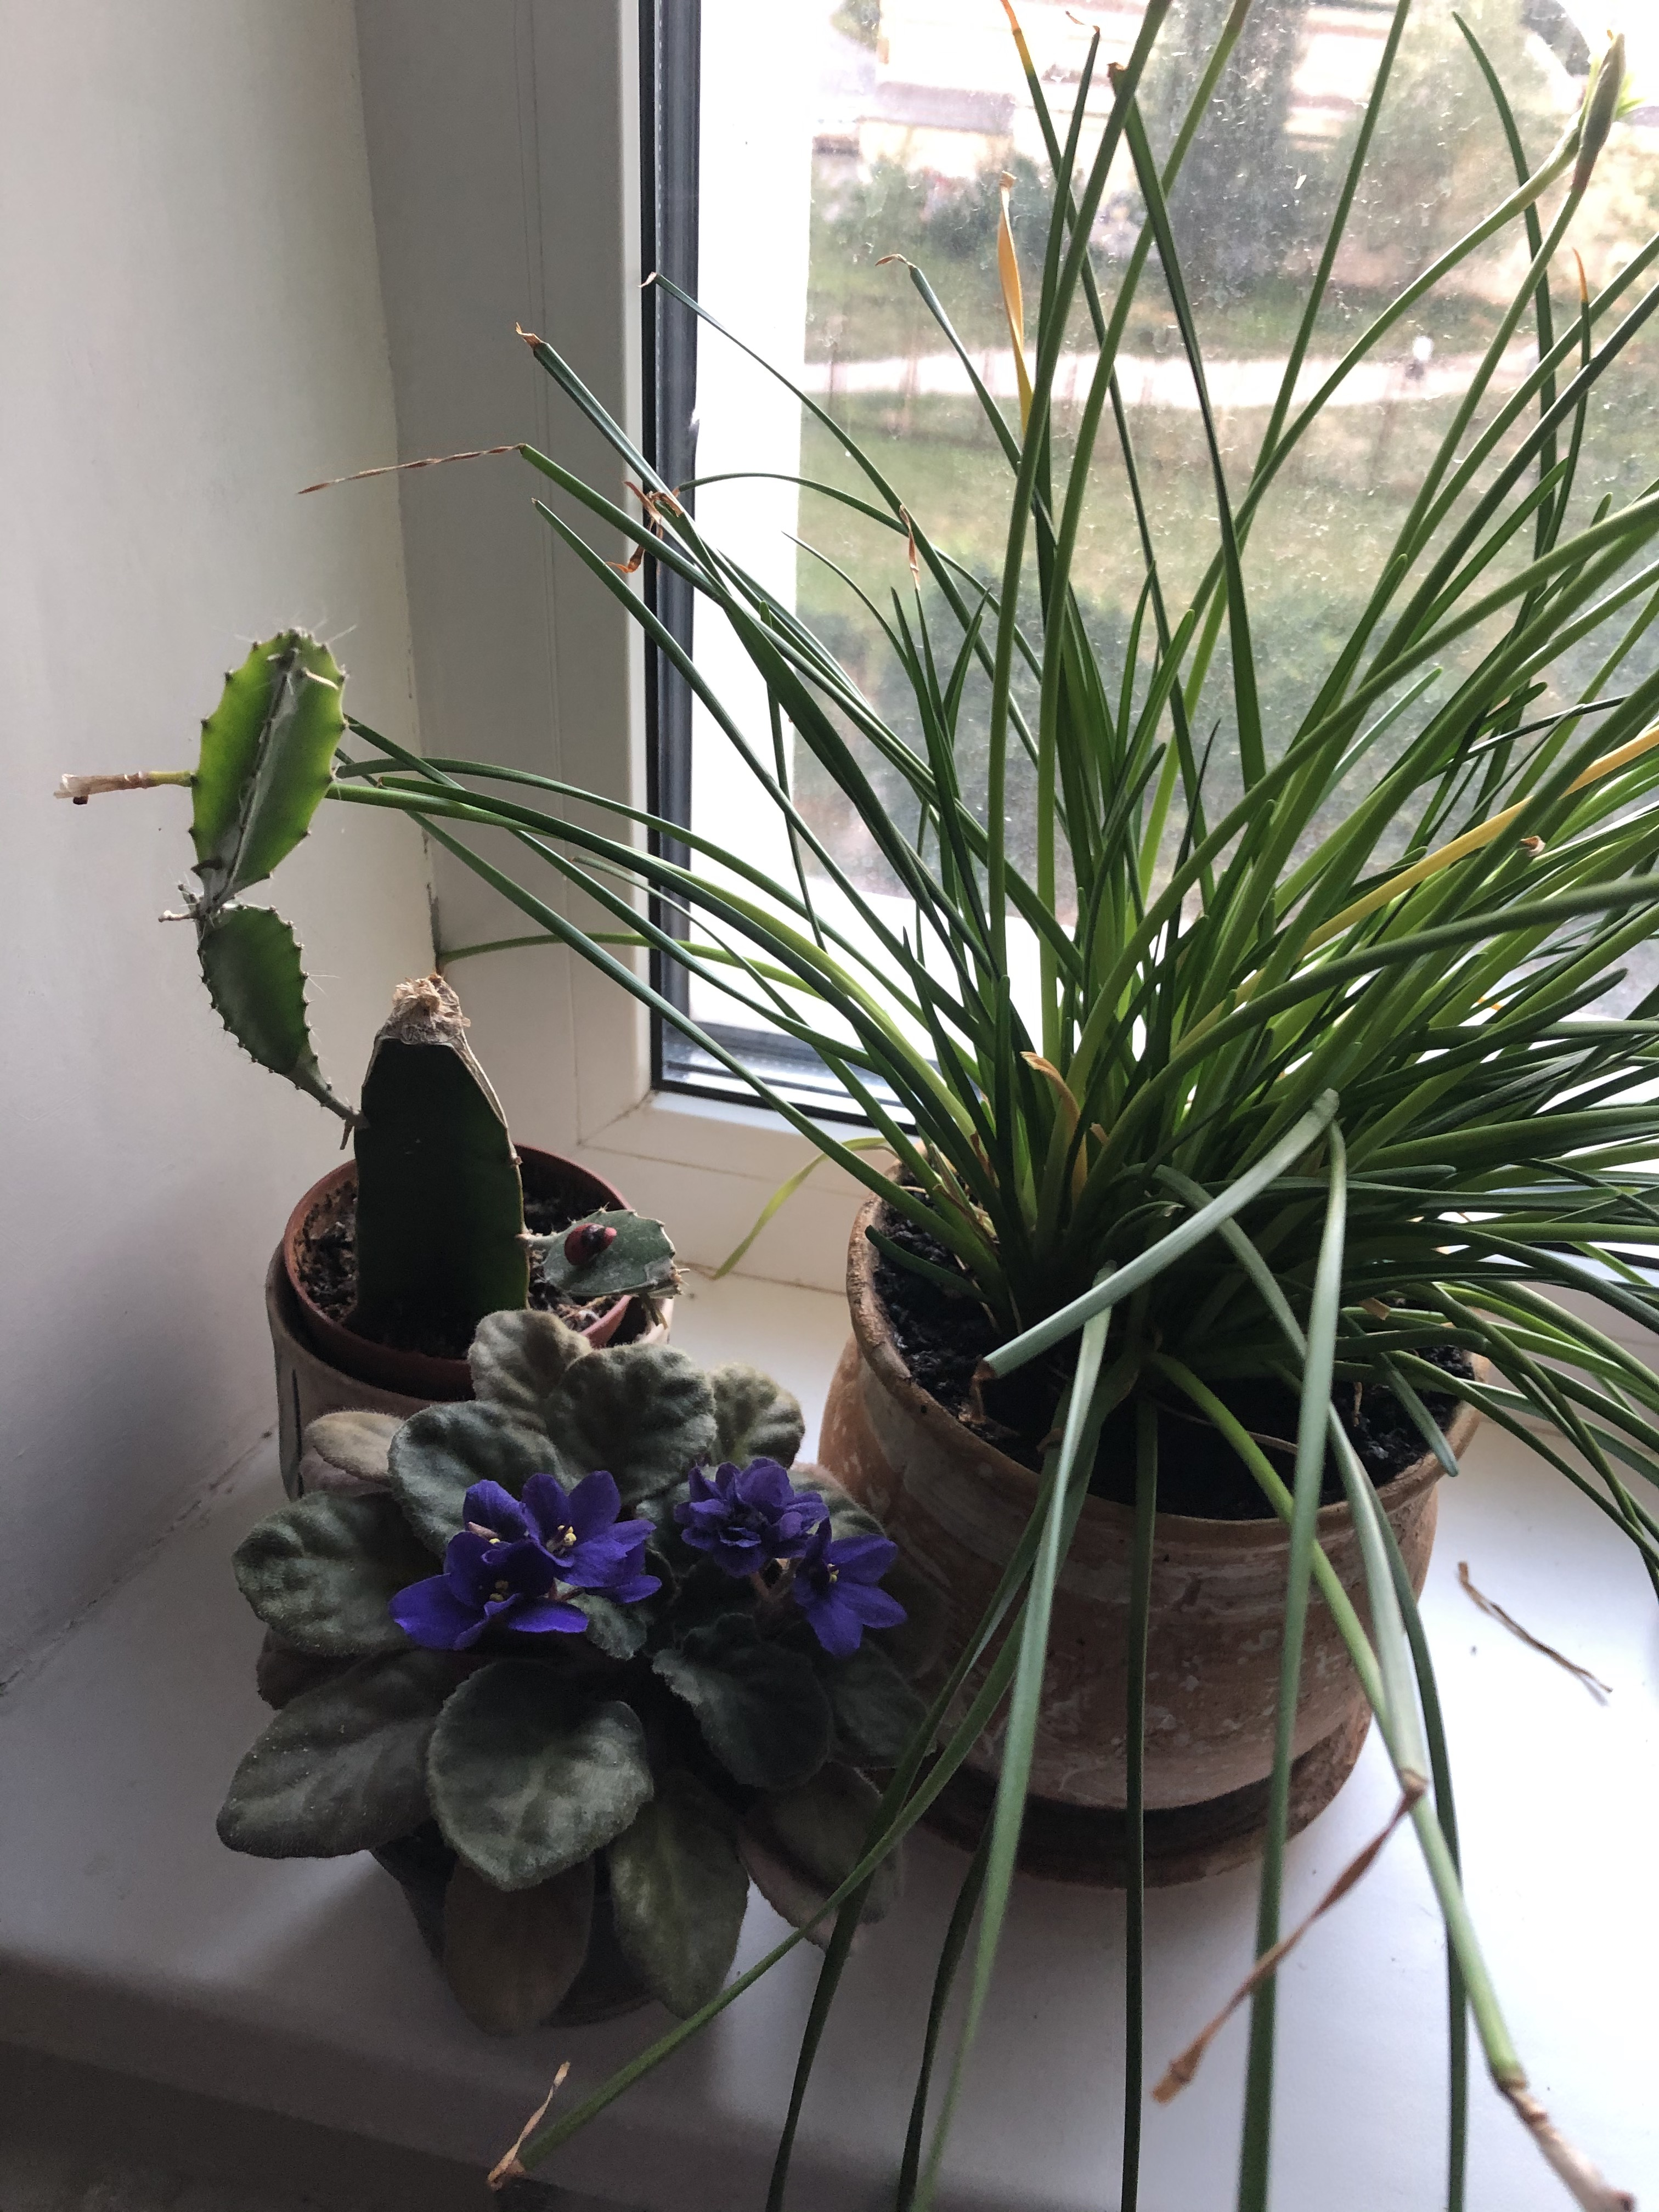ignore: (220, 1299, 978, 1987)
